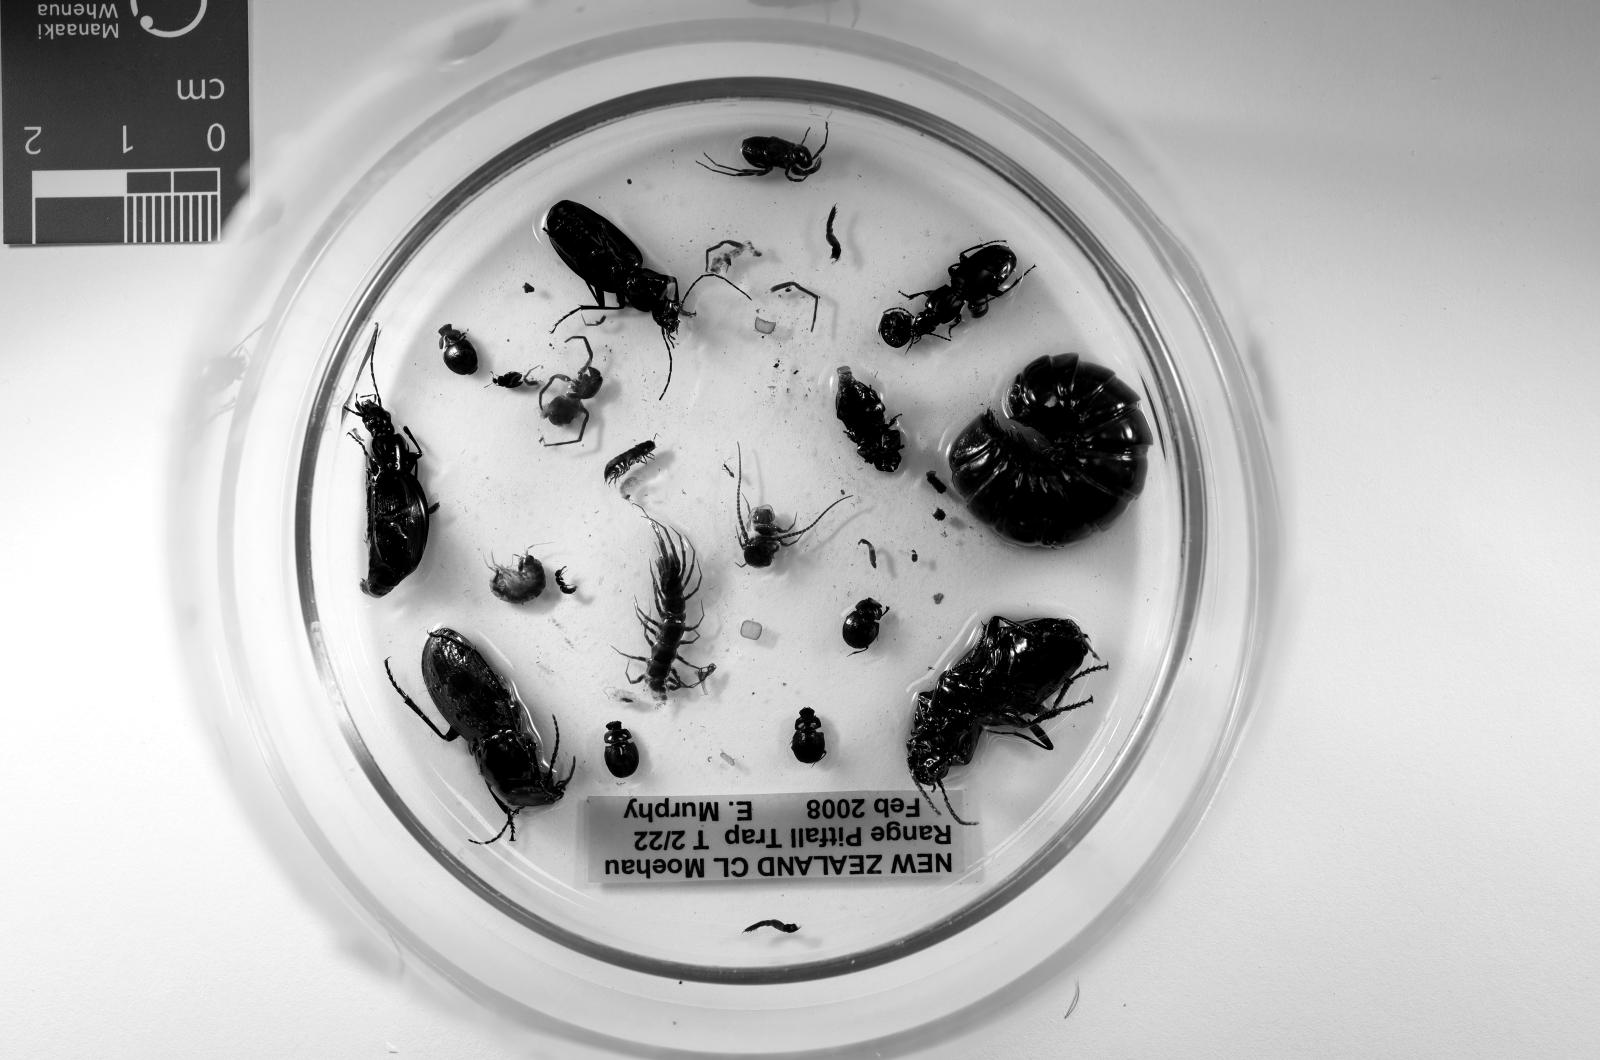amphipoda: (491, 552, 546, 602), (618, 476, 641, 500)
araneae: (540, 336, 603, 444)
carabidae: (394, 627, 575, 845), (906, 615, 1106, 807), (544, 199, 687, 342), (354, 394, 434, 600), (913, 243, 1018, 342), (835, 367, 903, 472)
chilopoda: (626, 516, 715, 702)
coleoptera: (841, 600, 887, 652), (603, 720, 641, 780), (438, 323, 478, 376), (791, 707, 825, 764), (491, 373, 525, 388)
formicidae: (553, 568, 578, 593)
isopoda: (950, 354, 1153, 547), (603, 441, 656, 481)
opiliones: (706, 137, 825, 183)
